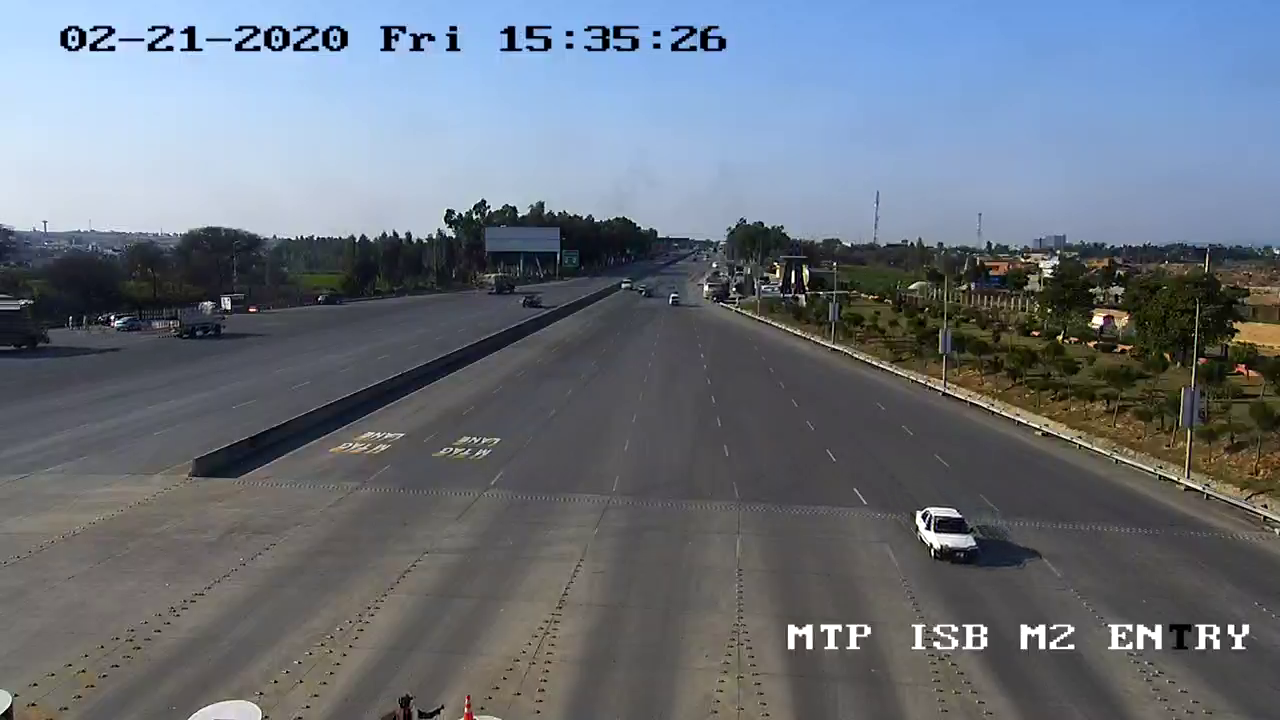f1: (909, 500, 985, 573)
